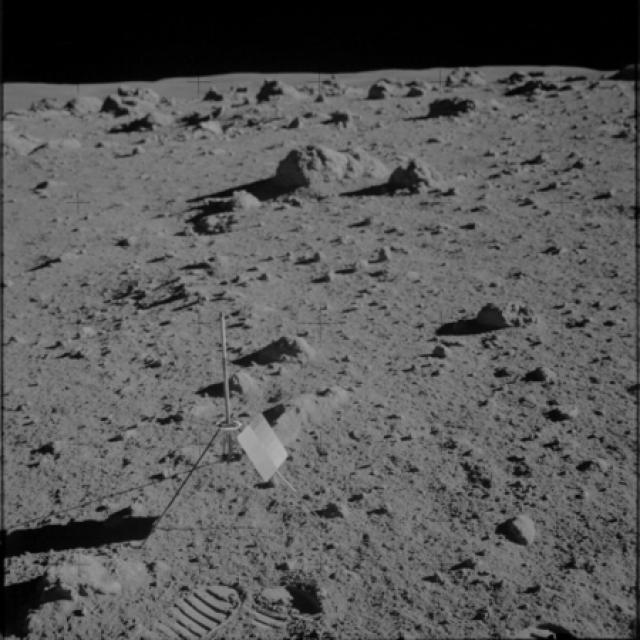rock: (254, 378, 366, 449), (264, 138, 379, 202), (224, 334, 331, 376), (496, 504, 548, 549), (390, 155, 440, 197), (202, 368, 262, 402), (474, 292, 525, 330), (192, 210, 244, 235), (520, 362, 572, 386), (221, 185, 266, 211), (35, 431, 71, 463), (196, 248, 230, 280), (535, 404, 584, 426), (430, 338, 457, 367), (27, 174, 62, 196), (110, 422, 134, 448), (116, 230, 142, 251), (377, 247, 398, 267), (348, 255, 366, 278), (532, 145, 552, 164), (314, 265, 334, 283), (333, 230, 351, 247), (305, 251, 324, 266), (358, 214, 377, 227)
